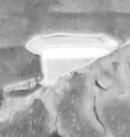paint-off: (1, 1, 130, 137)
